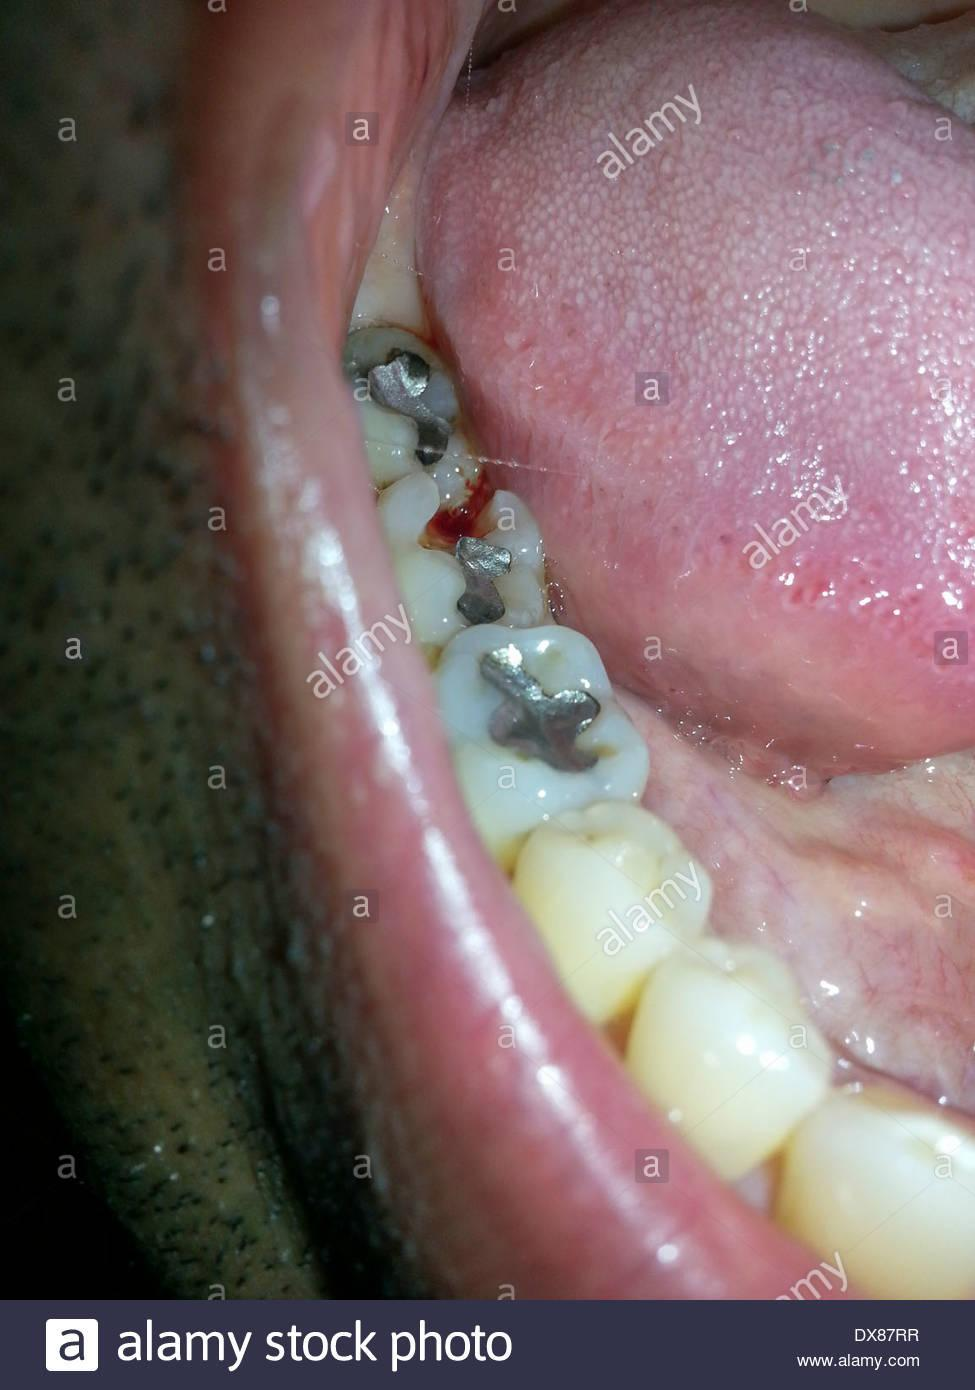cavity: (443, 620, 646, 822), (379, 446, 541, 634), (337, 324, 453, 472)
normal: (625, 940, 839, 1185), (501, 811, 716, 1032), (773, 1073, 975, 1301)
